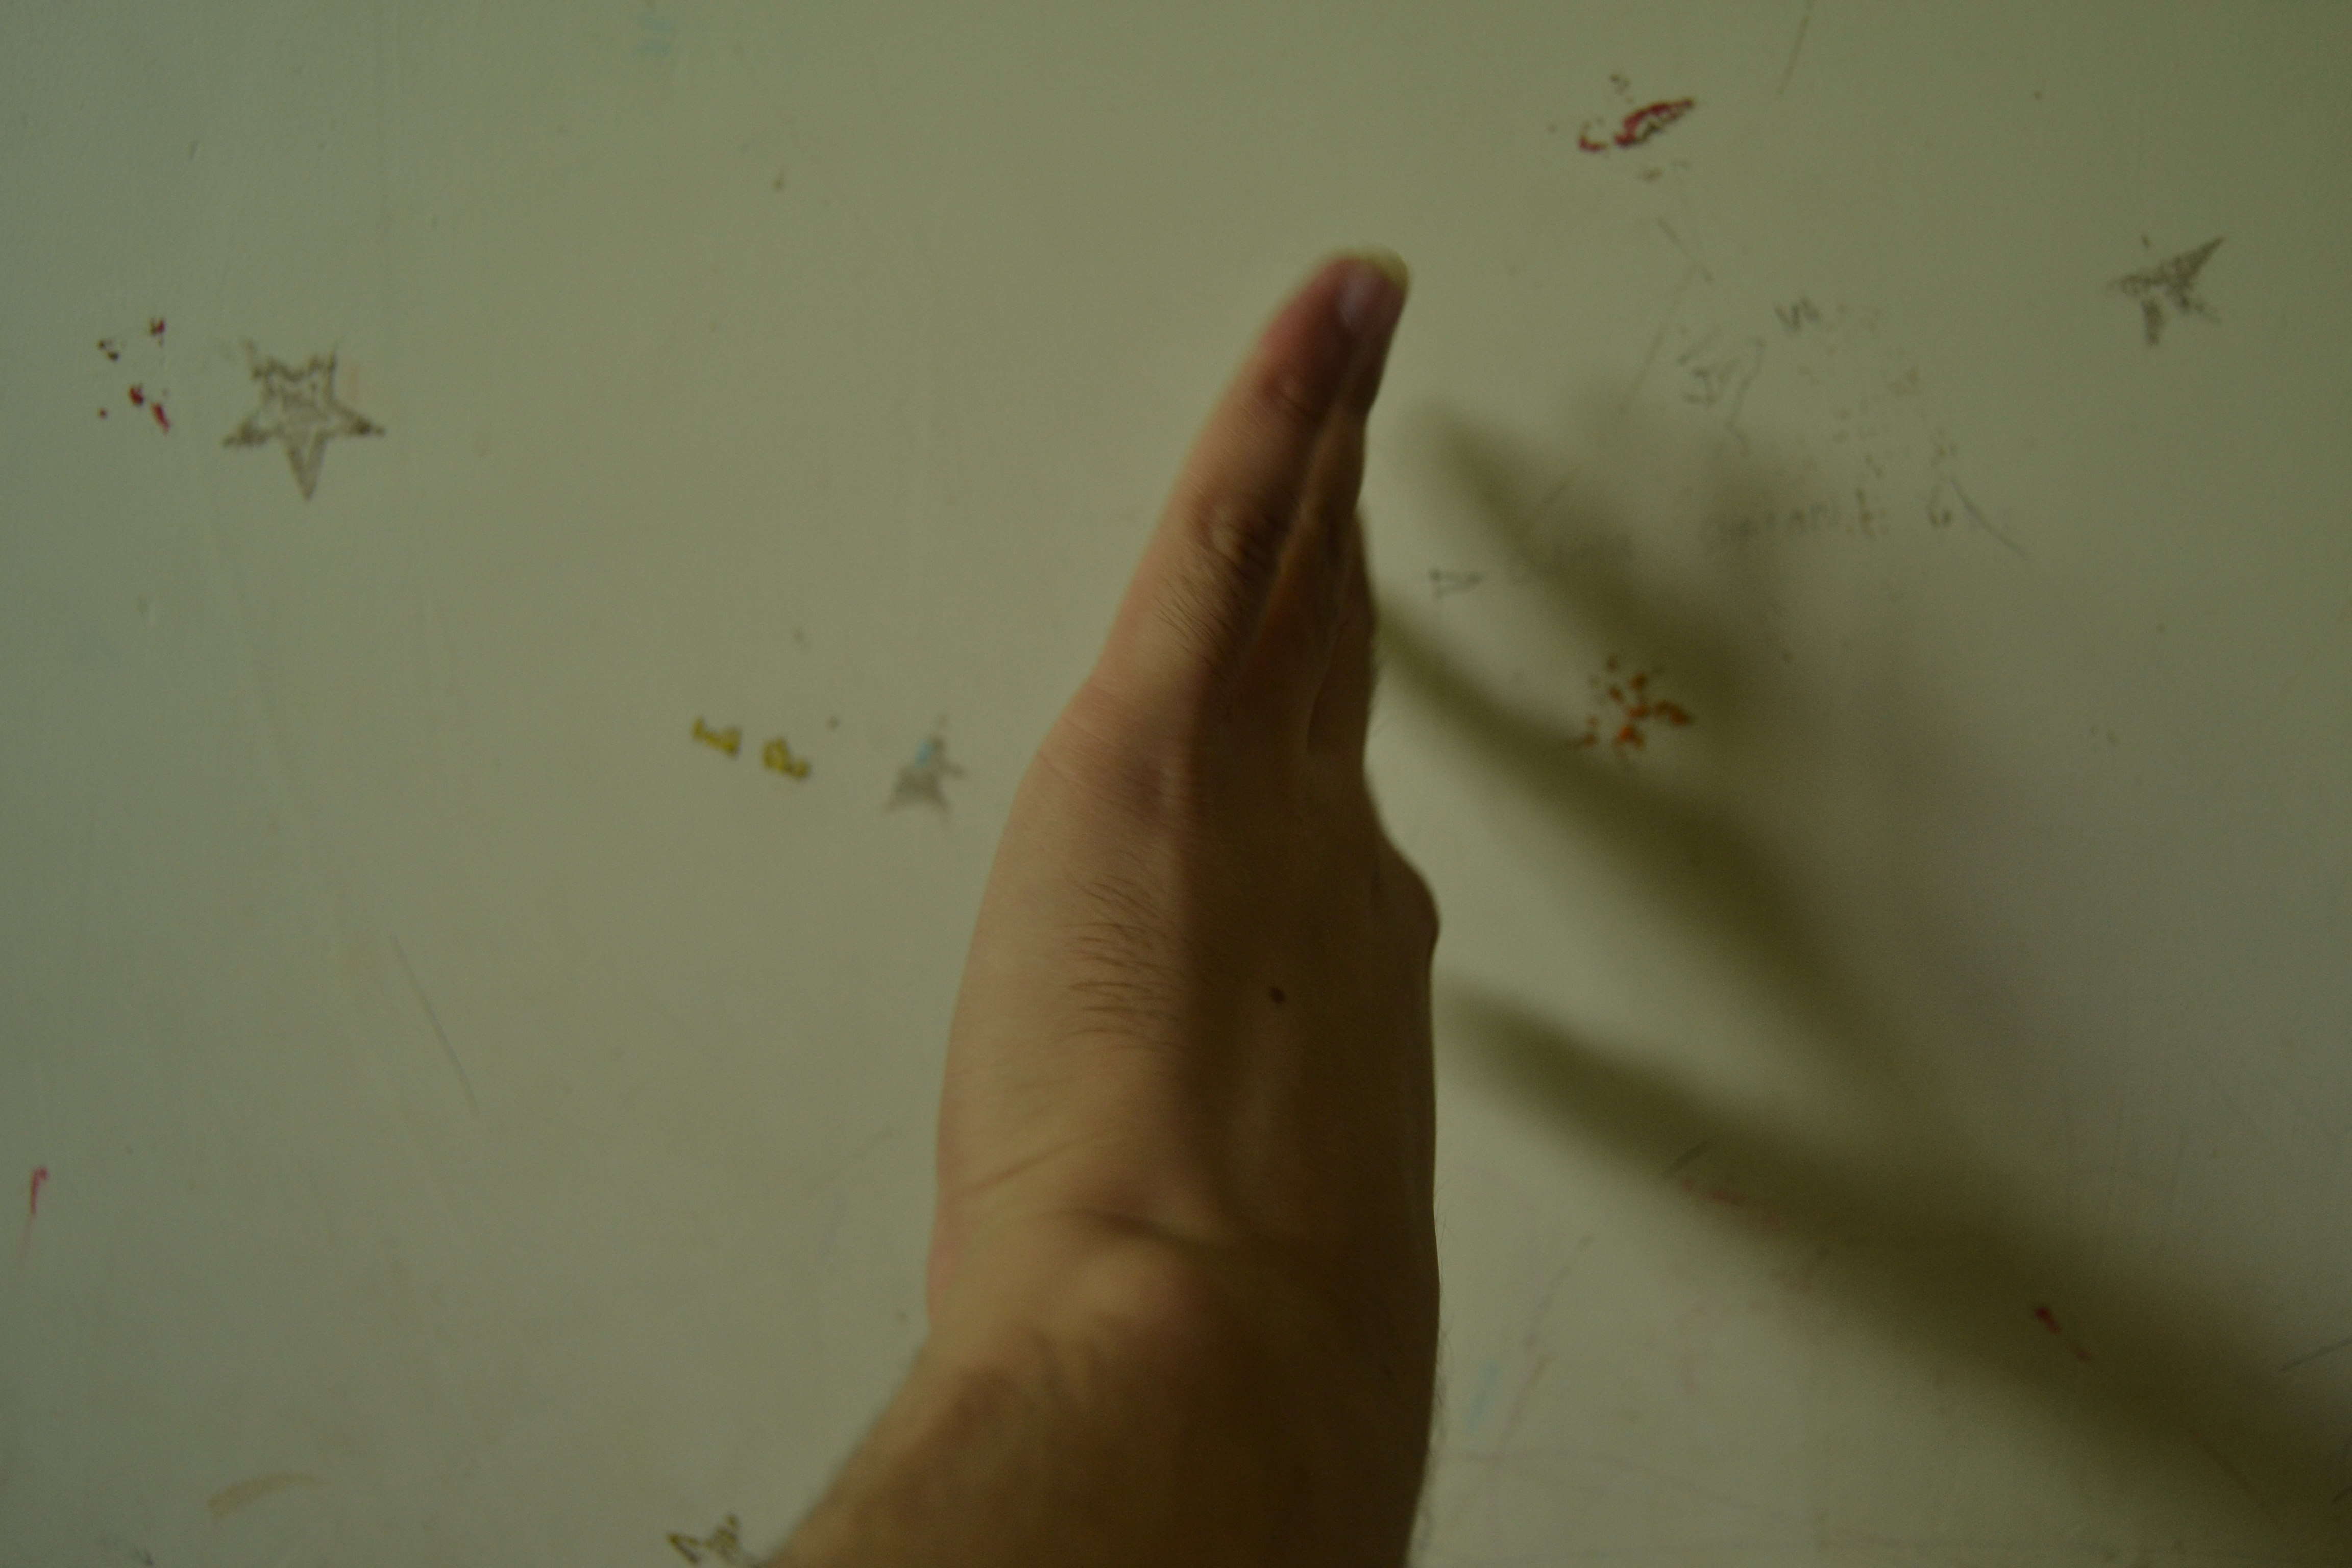move: (905, 234, 1535, 1556)
